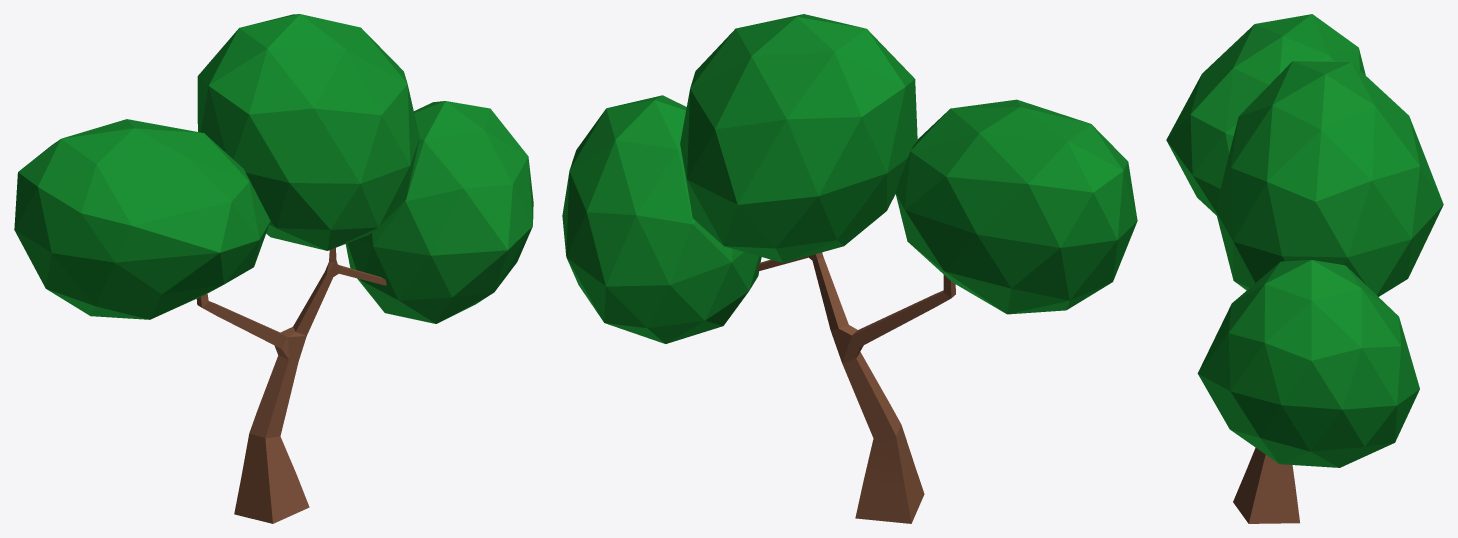
Rendered from TreeStump3.glb.
The picture shows the model from 3 angles, left to right: view 1: azimuth 30°, elevation 25°; view 2: azimuth 150°, elevation 25°; view 3: azimuth 270°, elevation 25°; orthographic projection. The views are drawn at different scales.
Parts seen in each view (by area): view 1: Tree Stump 3; view 2: Tree Stump 3; view 3: Tree Stump 3.
Part boxes in pixels (x1,y1,x2,y2): Tree Stump 3: (14, 14, 533, 523); Tree Stump 3: (562, 14, 1137, 523); Tree Stump 3: (1166, 14, 1443, 523).
Size of the model in its own units: 112 by 99.11 by 53.08.
